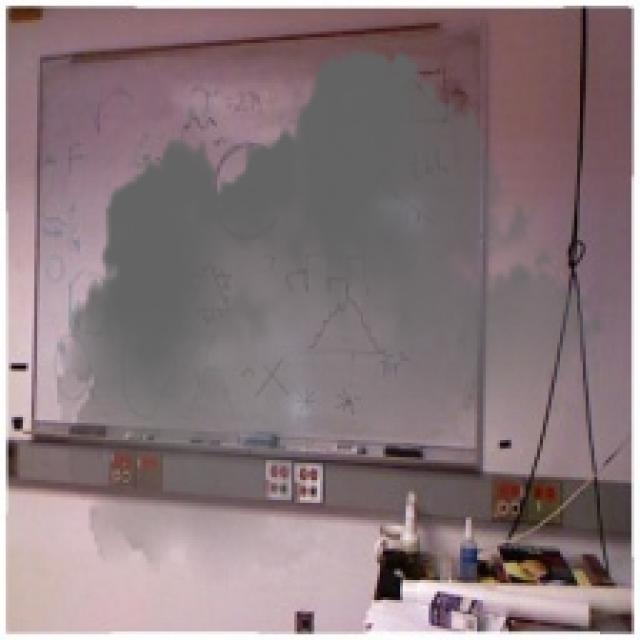smoke: (57, 29, 606, 592)
